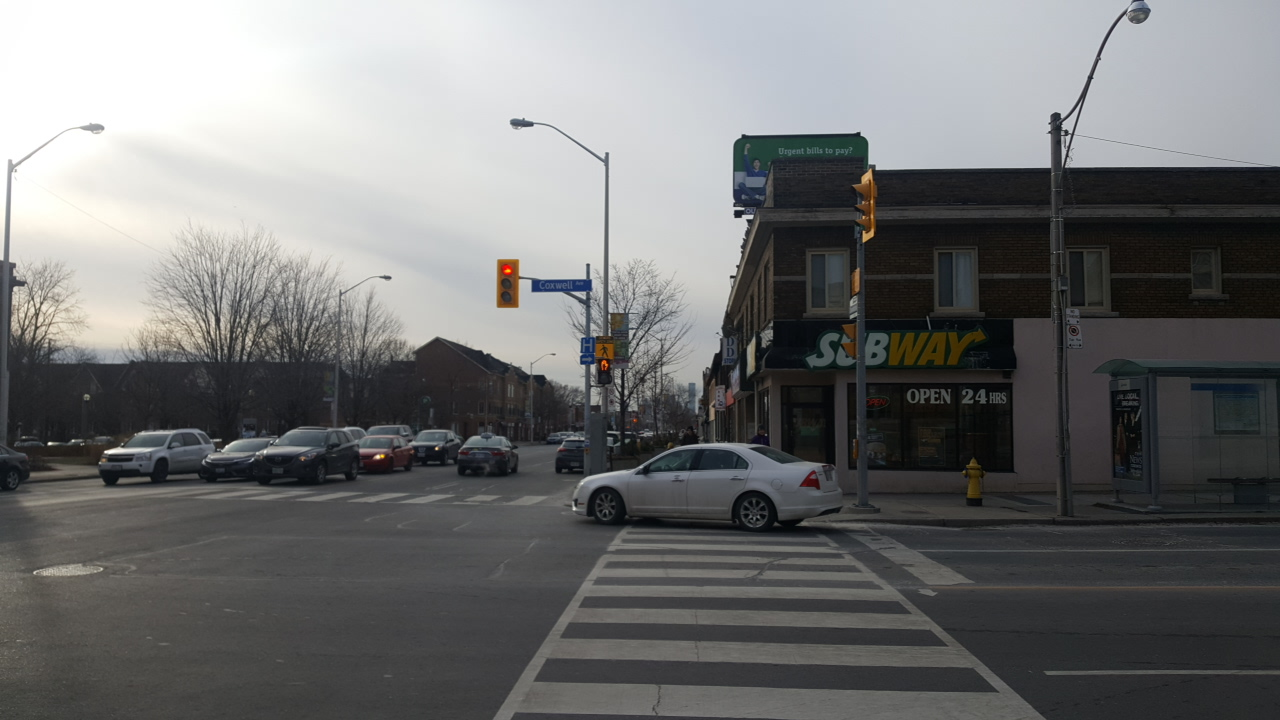light: (596, 357, 612, 385)
